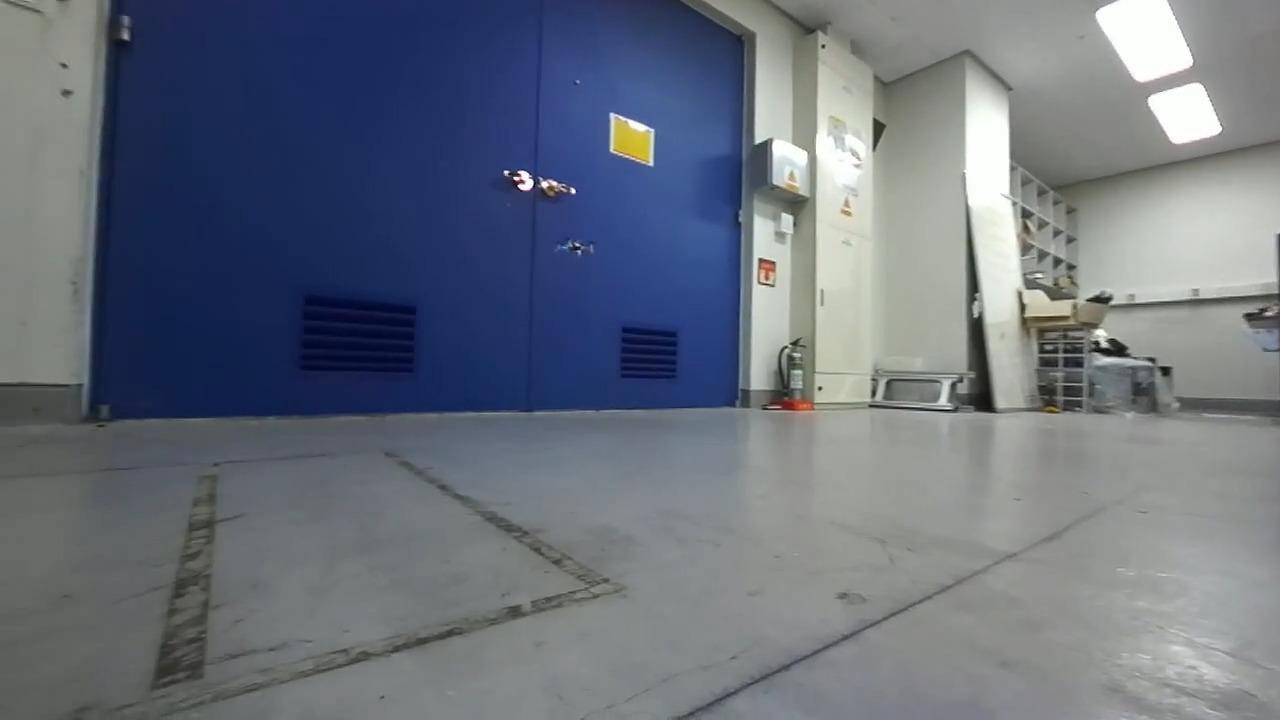crazyflie: (553, 234, 599, 260)
